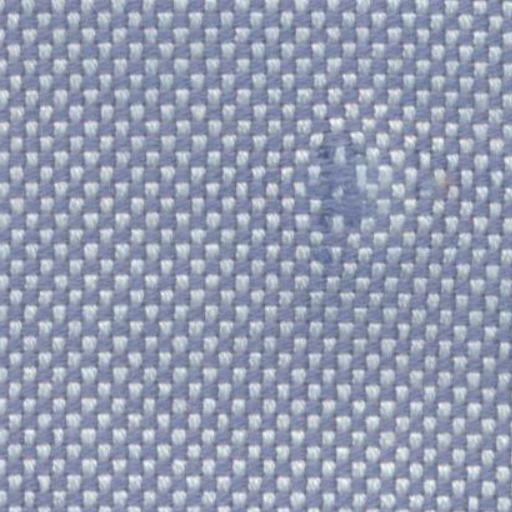MianQiu: (282, 119, 384, 242)
